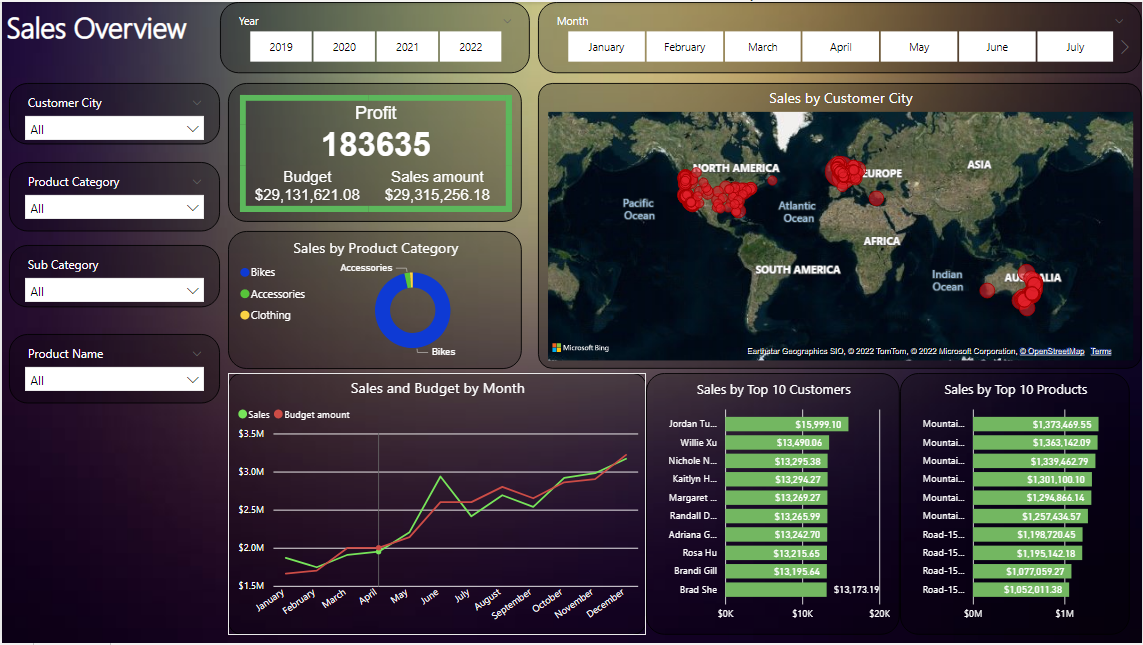

What the dashboard file says about the page in this screenshot:
{"tool":"powerbi","page":{"name":"Page 1","canvas":[1280,720],"ordinal":0},"visuals":[{"type":"textbox","box":[0,0,244.9,79.8],"z":0},{"type":"slicer","fields":{"Values":["DIM customers.Customer City"]},"box":[7.9,91,237,68.5],"z":1000},{"type":"slicer","fields":{"Values":["DIM product.Sub Category"]},"box":[7.9,272.9,237,69.6],"z":2000},{"type":"slicer","fields":{"Values":["DIM product.Product Category"]},"box":[7.9,179.7,237,77.5],"z":3000},{"type":"slicer","fields":{"Values":["DIM product.Product Name"]},"box":[7.9,372.9,237,77.5],"z":4000},{"type":"slicer","fields":{"Values":["DIM calender.Year"]},"box":[244.9,0,348.2,79.8],"z":5000},{"type":"slicer","fields":{"Values":["DIM calender.Month"]},"box":[602.1,0,678.4,79.8],"z":6000},{"type":"BBED0A4D4D8D44CE93CF2DAFADEE466C","fields":{"target1":["Budget (2).Budget amount 1"],"actual":["Budget (2).Sales - Budget 1"],"target2":["Fact Internetsales (2).Sales (2)"]},"box":[253.9,91,330.2,156.1],"z":7000},{"type":"donutChart","title":"Sales by Product Category","fields":{"Category":["DIM product.Product Category"],"Y":["Fact Internetsales (2).Sales (2)"]},"box":[253.9,257.2,330.2,155],"z":8000},{"type":"lineChart","title":"Sales and Budget by Month","fields":{"Category":["DIM calender.Month"],"Y":["Fact Internetsales (2).Sales (2)","Budget (2).Budget amount 1"]},"box":[253.9,416.7,469.5,294.3],"z":9000},{"type":"barChart","title":"Sales by Top 10 Customers","fields":{"Y":["Fact Internetsales (2).Sales"],"Category":["DIM customers.Full Name"]},"box":[723.4,416.7,285.3,294.3],"z":10000},{"type":"barChart","title":"Sales by Top 10 Products","fields":{"Y":["Fact Internetsales (2).Sales"],"Category":["DIM product.Product Name"]},"box":[1008.7,416.7,258.3,294.3],"z":11000},{"type":"map","fields":{"Size":["Fact Internetsales (2).Sales"],"Category":["DIM customers.Customer City"]},"box":[602.1,91,678.4,321.2],"z":12000}]}

Visuals, with their boxes in screenshot pixels (x1, y1, x2, y2), scaled from the page's 1280x720 canvas onto the 1143x645 screenshot:
textbox: 0/0/219/71
slicer - DIM customers.Customer City: 7/82/219/143
slicer - DIM product.Sub Category: 7/244/219/307
slicer - DIM product.Product Category: 7/161/219/230
slicer - DIM product.Product Name: 7/334/219/403
slicer - DIM calender.Year: 219/0/530/71
slicer - DIM calender.Month: 538/0/1142/71
BBED0A4D4D8D44CE93CF2DAFADEE466C - Budget (2).Budget amount 1 x Budget (2).Sales - Budget 1: 227/82/522/221
"Sales by Product Category" donutChart: 227/230/522/369
"Sales and Budget by Month" lineChart: 227/373/646/637
"Sales by Top 10 Customers" barChart: 646/373/901/637
"Sales by Top 10 Products" barChart: 901/373/1131/637
map - Fact Internetsales (2).Sales x DIM customers.Customer City: 538/82/1142/369
